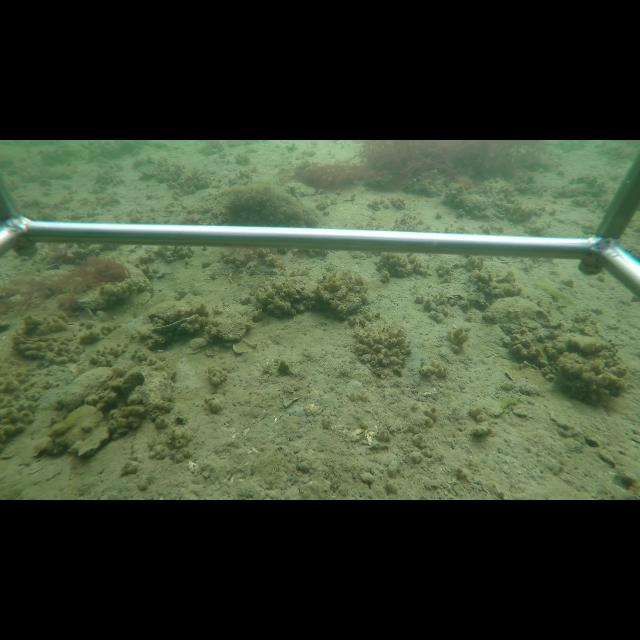Oyster-Closed: (206, 303, 259, 342)
